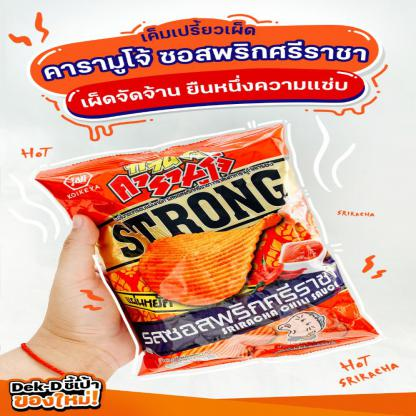potatochip: (44, 124, 381, 379)
